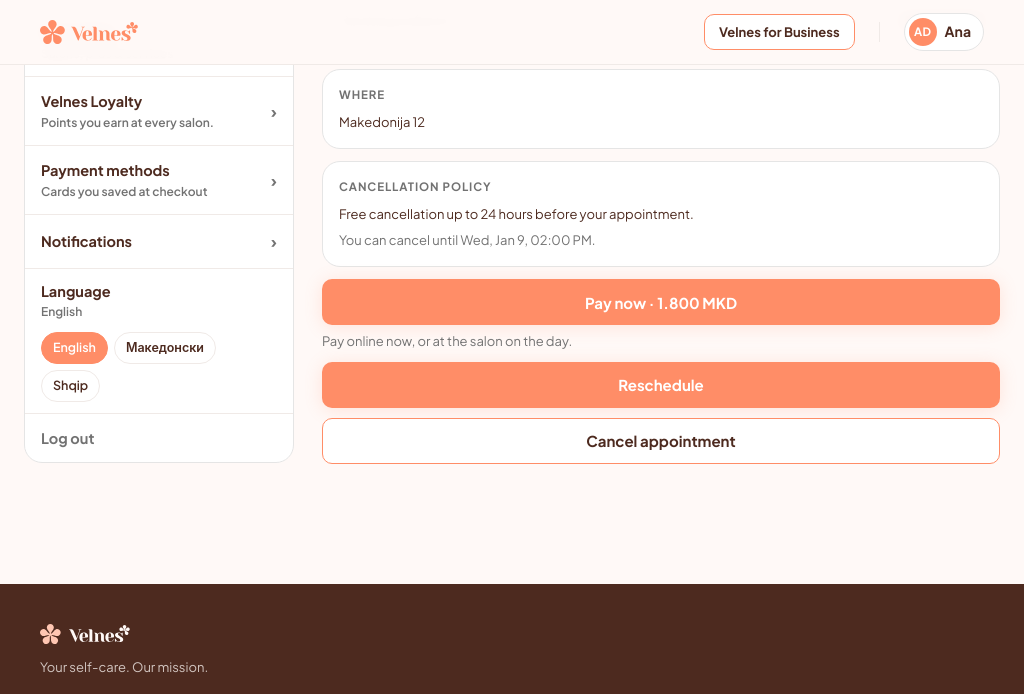
Test case: booking changes › a reschedule is a request: pick a free time, read that nothing changes until approval, send — then it shows as waiting
(page scrolled)
Expected: the text "Free cancellation up to 24 hours before your appointment." is shown, [339,206,694,222]
Click the button "Reschedule": (661, 385) [322,362,1000,408]
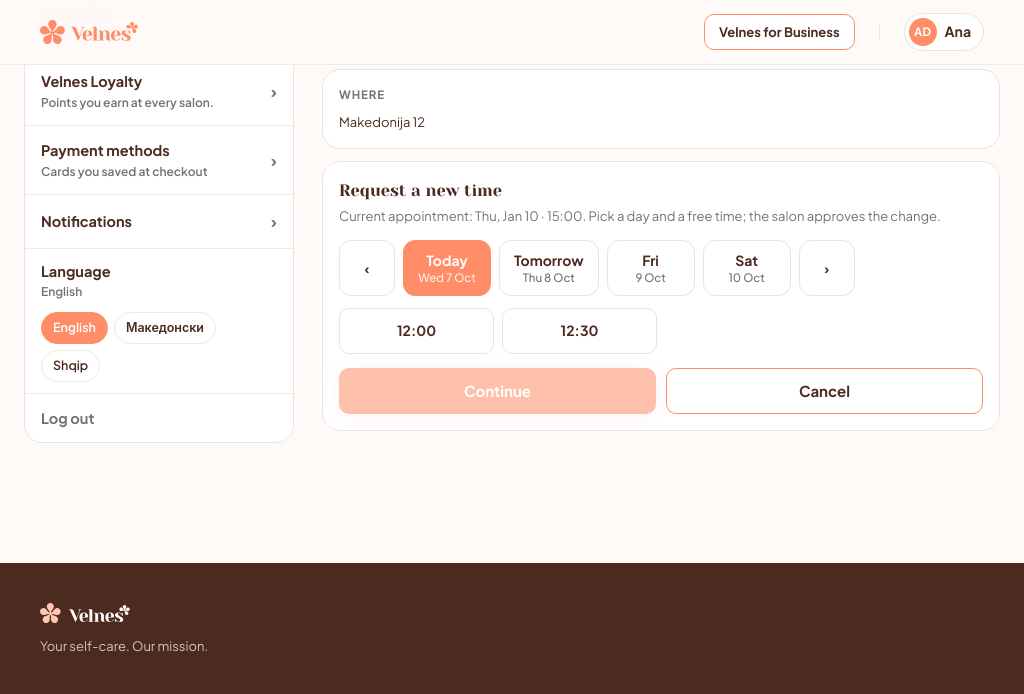
Expected: the button "12:00" is shown
Expected: the button "Continue" is disabled, [339,368,656,414]
Click the button "12:00": (416, 331) [339,308,494,354]
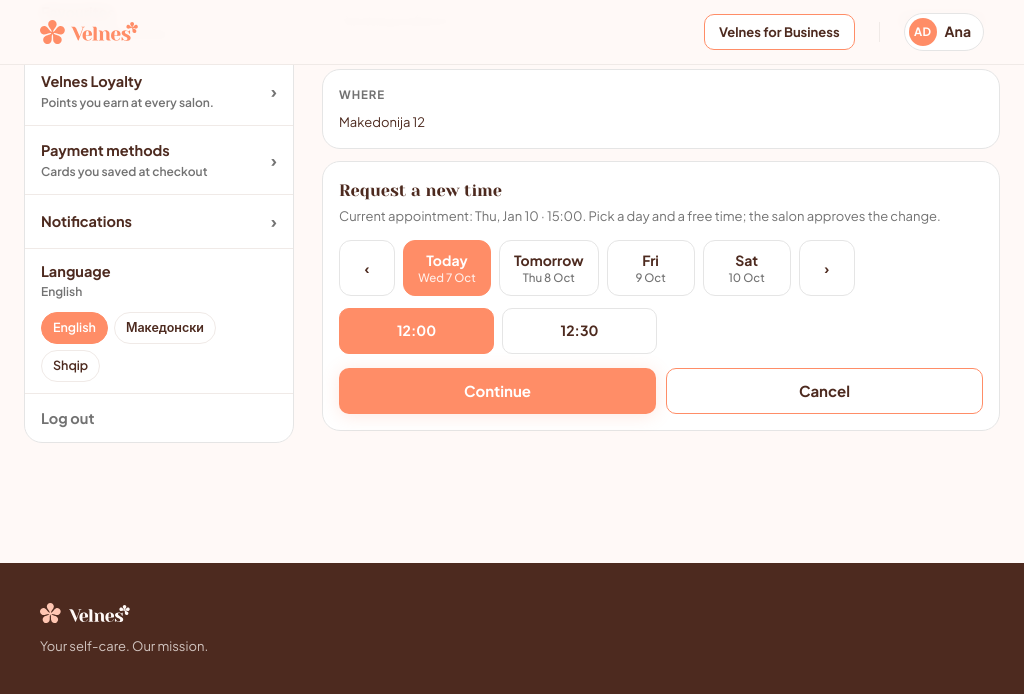
Click the button "Continue": (498, 391) [339,368,656,414]
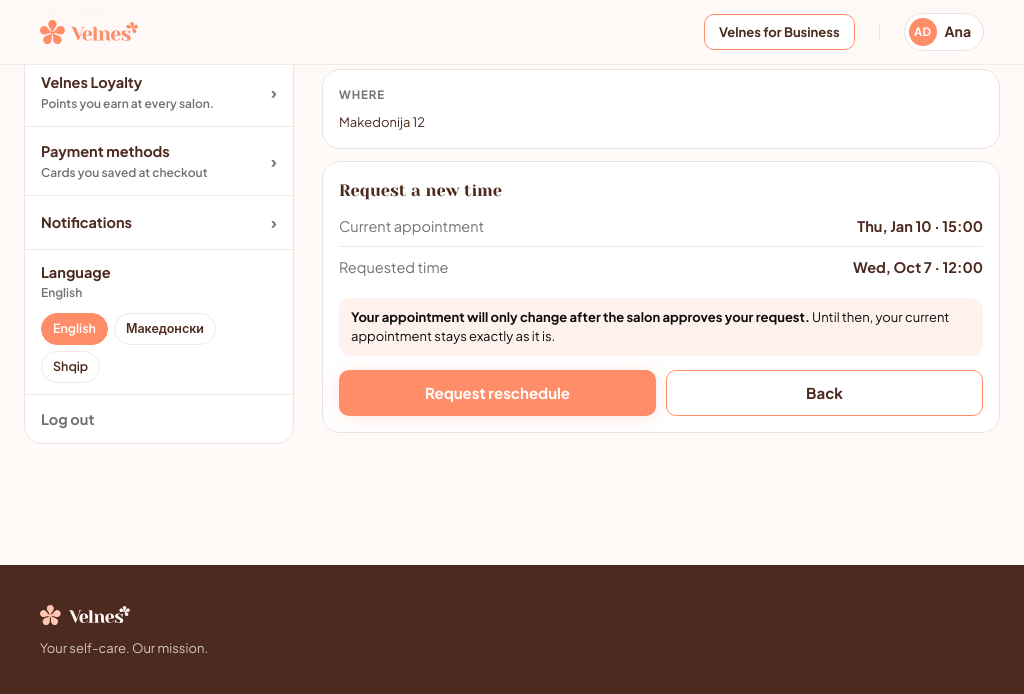
Expected: the text "Current appointment" is shown, [339,215,484,237]
Expected: the text "Requested time" is shown, [339,256,448,279]
Expected: the text "Your appointment will only change after the salon approves your request." is shown, [351,309,810,325]
Click the button "Request reschedule": (498, 392) [339,370,656,416]
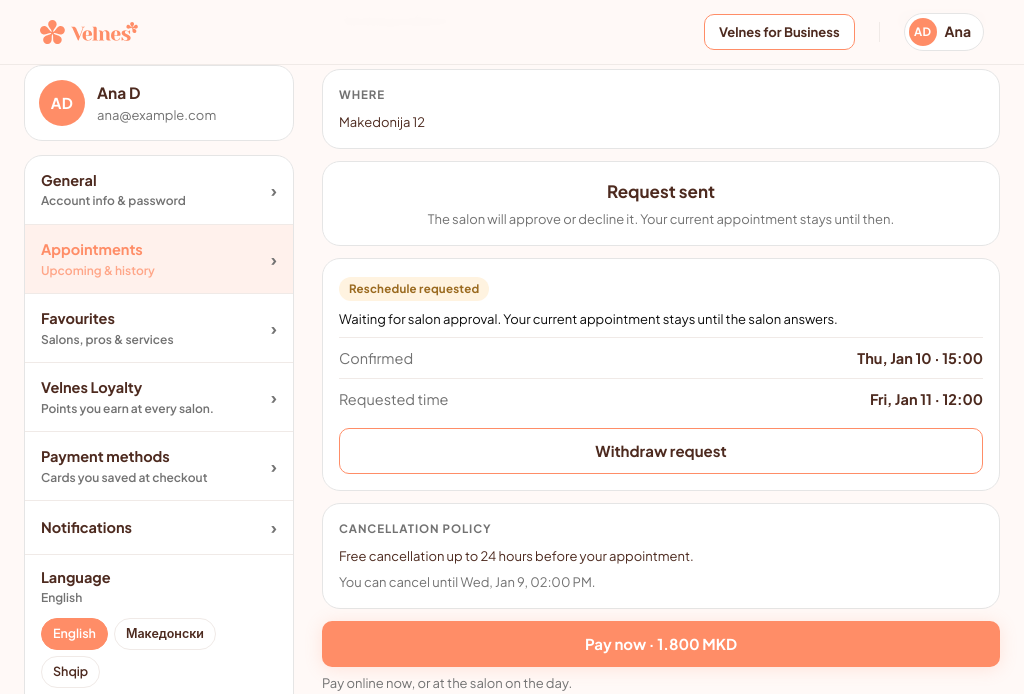
Expected: the text "Request sent" is shown, [607,180,715,202]
Expected: the text "Reschedule requested" is shown, [339,277,490,301]
Expected: the button "Withdraw request" is shown, [339,428,983,474]
